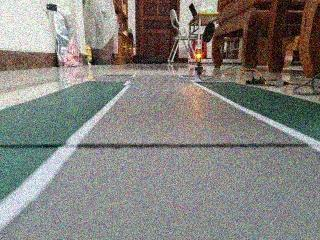yellow: (191, 43, 208, 68)
